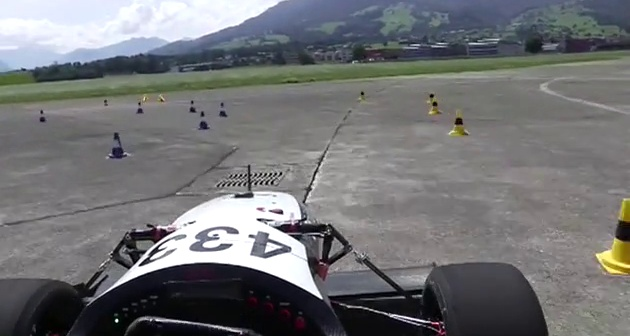Cone: (595, 196, 630, 280), (446, 107, 470, 138), (107, 131, 129, 160), (428, 94, 444, 116), (197, 110, 210, 132)
